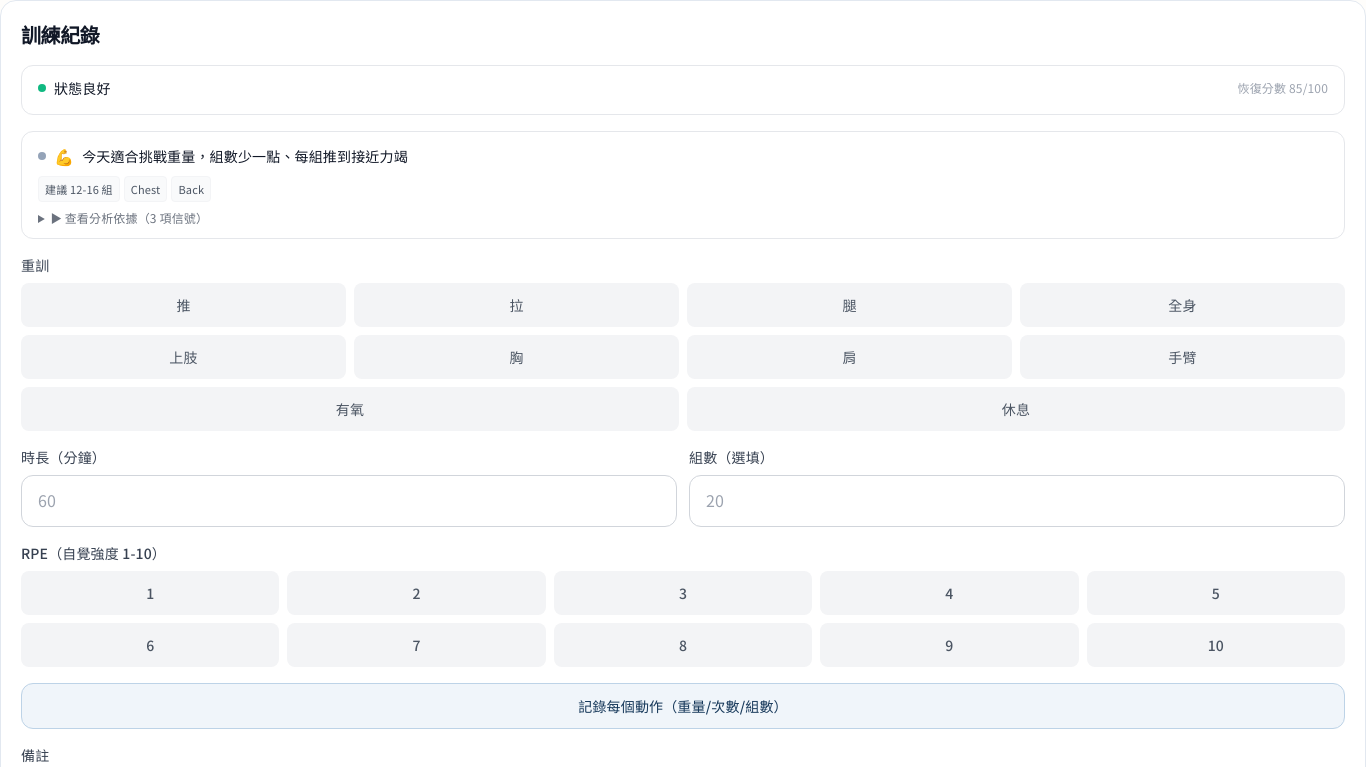
Test: TrainingLog › mode recommendation › renders analysis details section (line 500) and expands on click
# Click to expand the details
Step 1. Click the heading "▶ 查看分析依據（3 項信號）" → (129, 218), box x1=51 y1=209 x2=208 y2=226
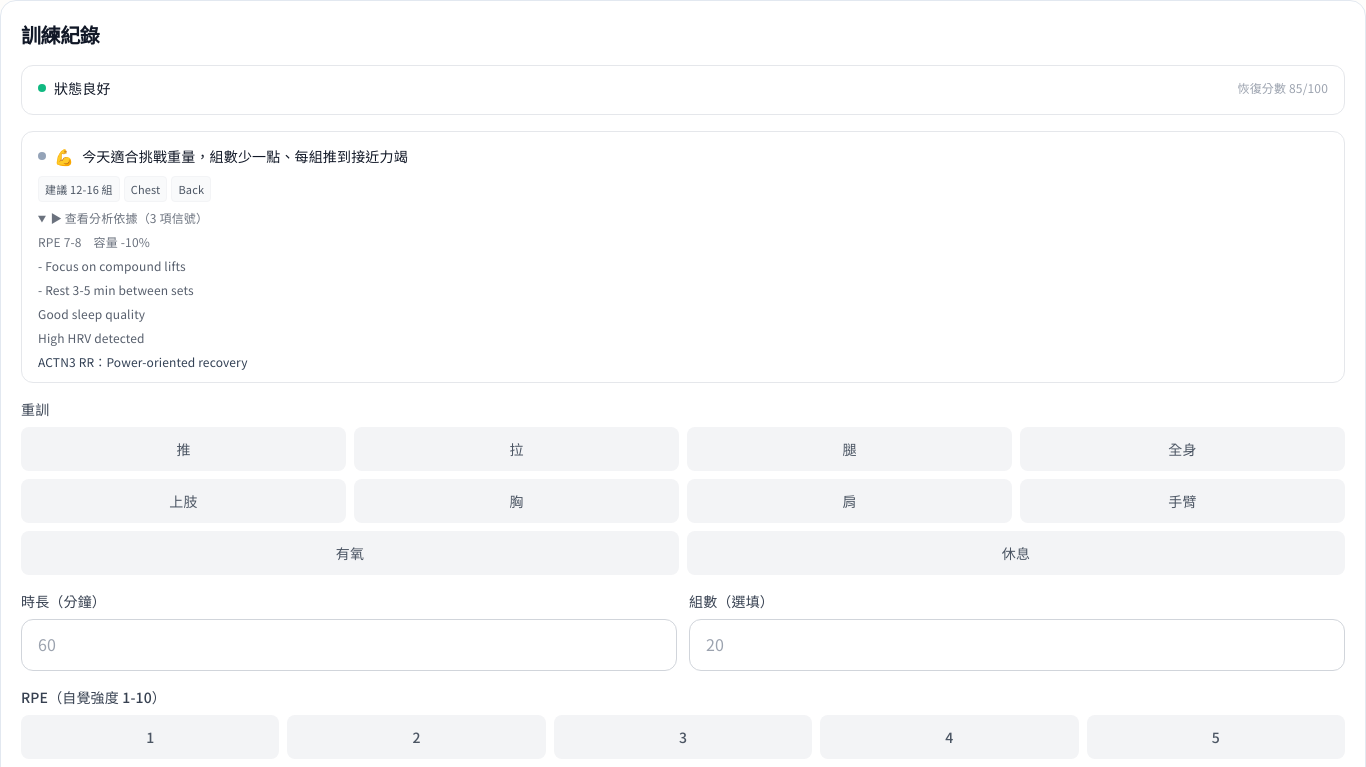
Expected: the text "Good sleep quality" is shown, x1=38 y1=305 x2=145 y2=322
Expected: the text "High HRV detected" is shown, x1=38 y1=329 x2=145 y2=346
Expected: the text "ACTN3 RR：Power-oriented recovery" is shown, x1=38 y1=353 x2=248 y2=370
